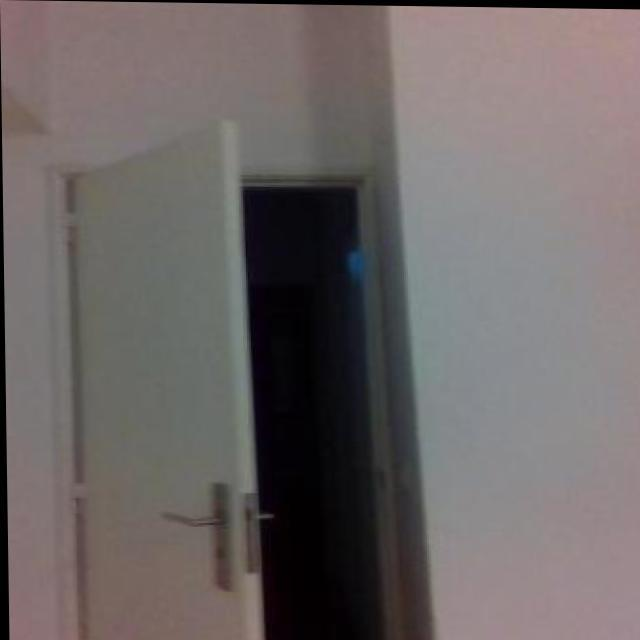door_handle: (149, 500, 228, 537)
